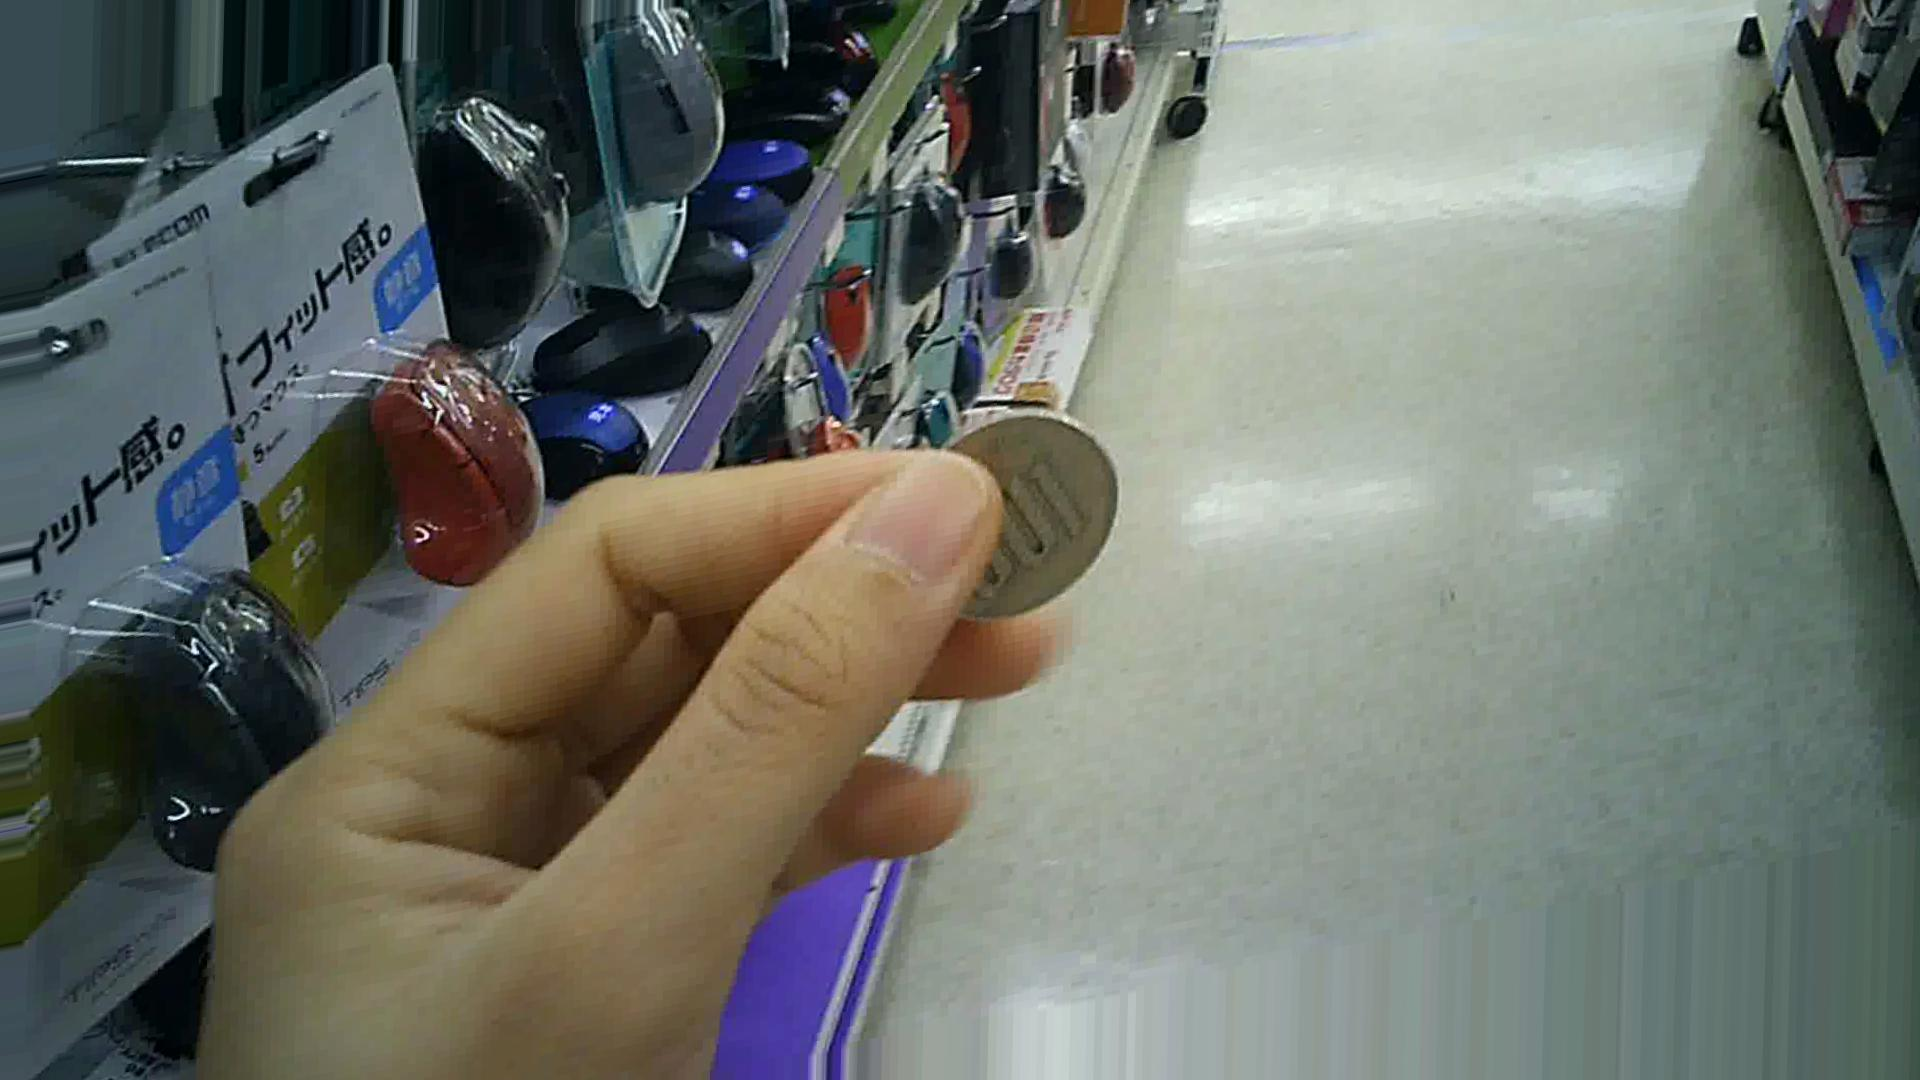100 Yen: (891, 400, 1130, 638)
